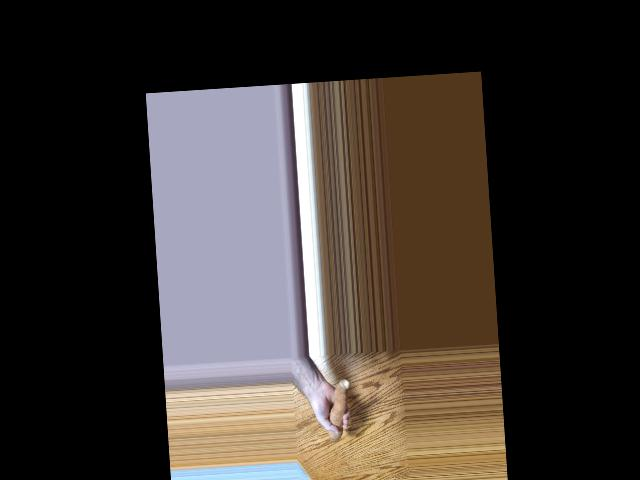sweet_potato: (321, 374, 350, 436)
